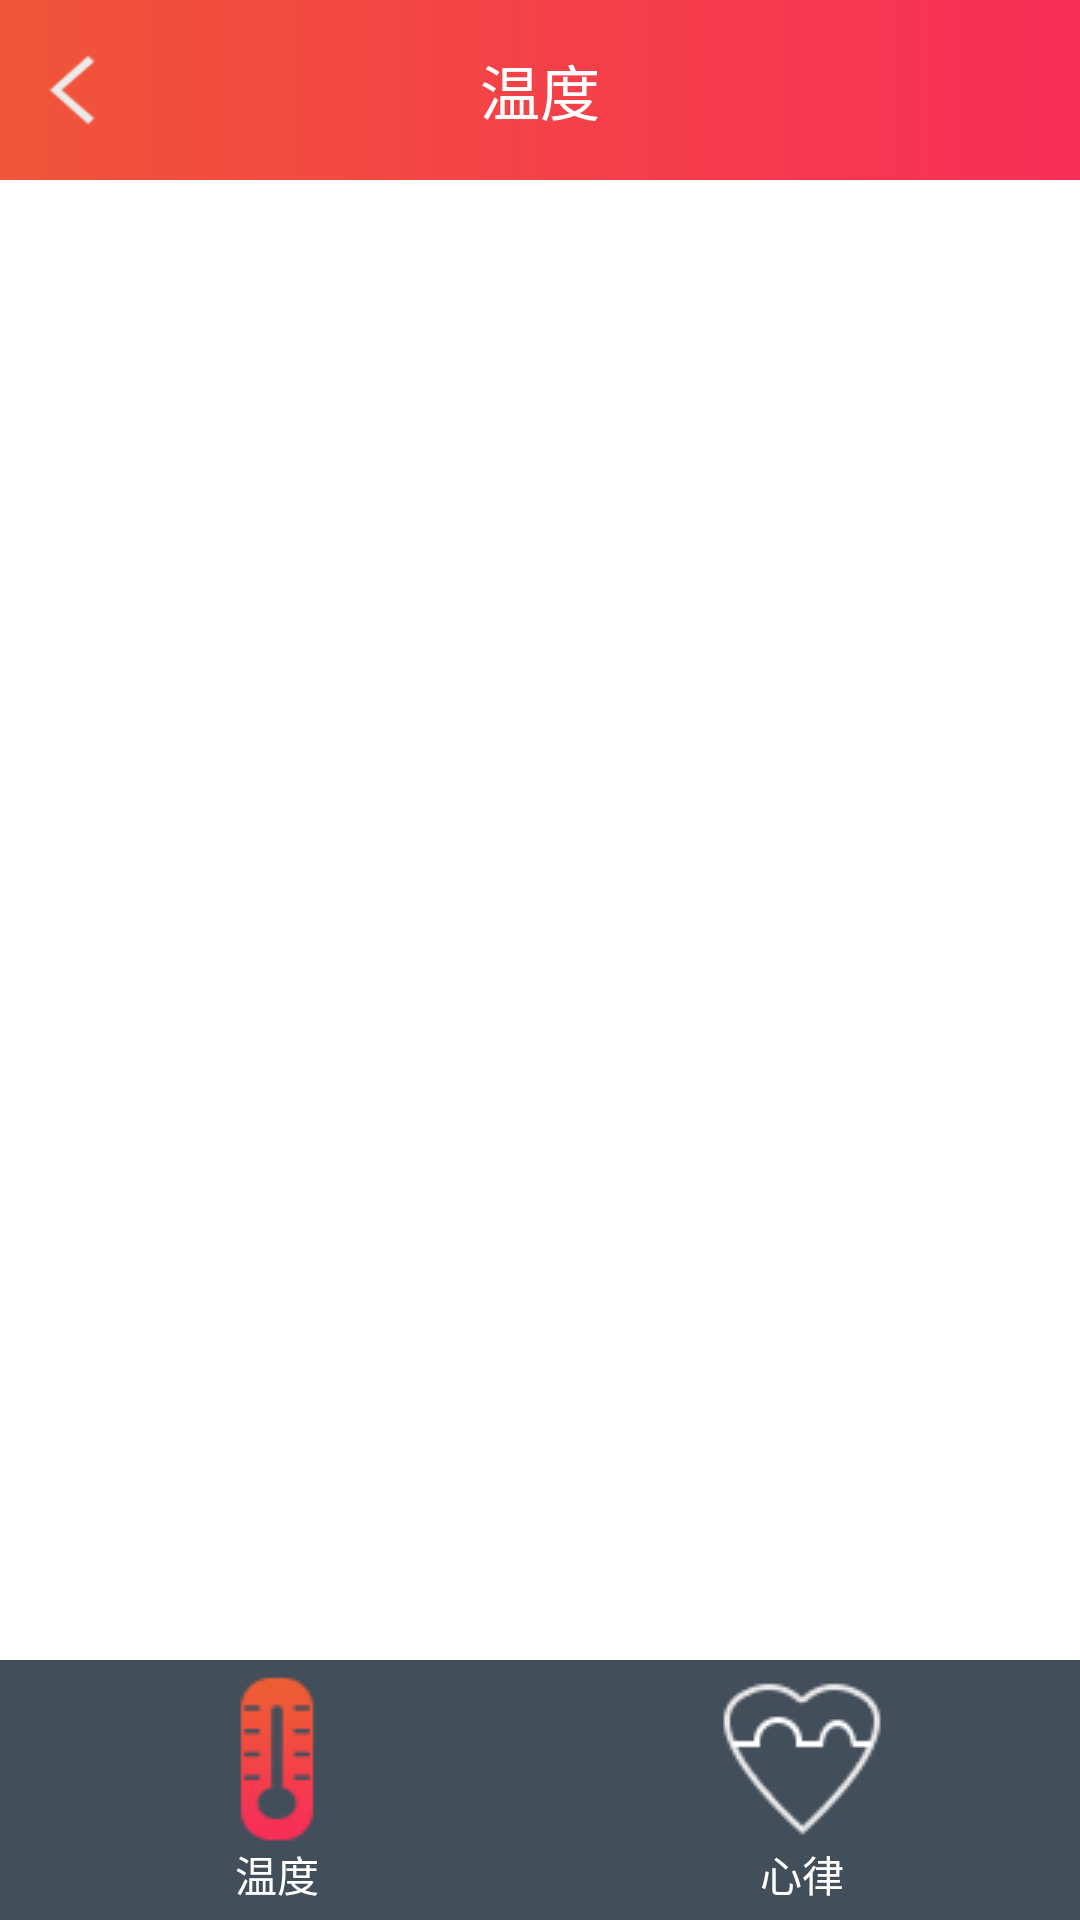

Point at icon controls on the screen. Image size 1080x1920, points as [x,y].
back: [72,90]
